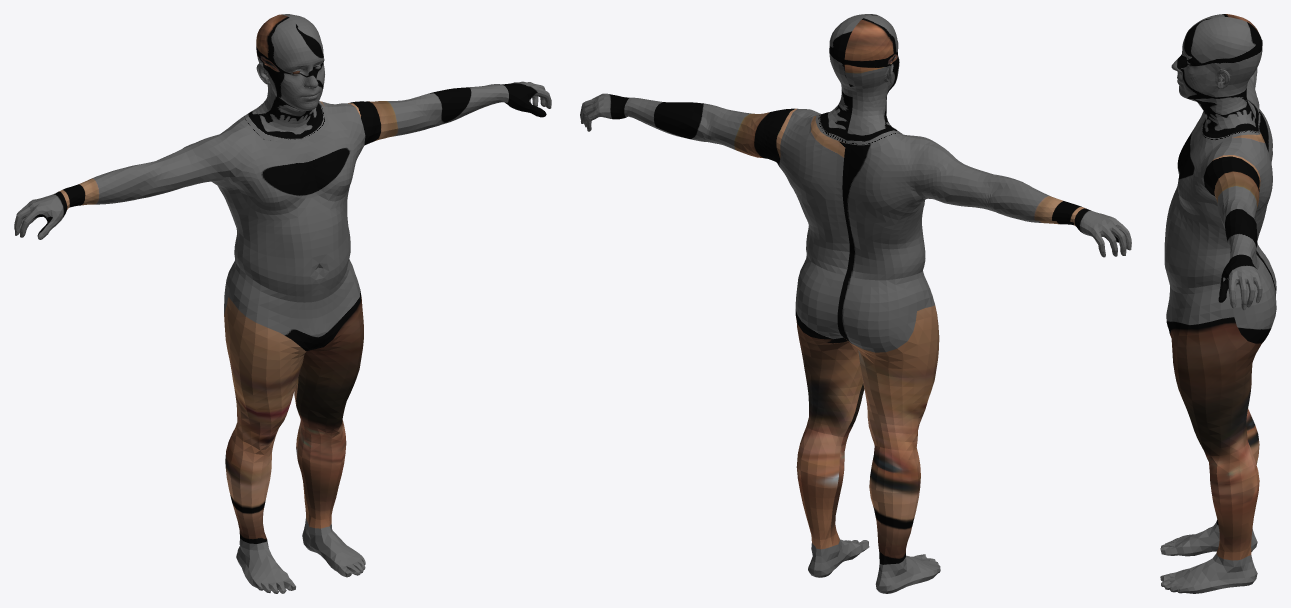
File: normal_model.obj
3 renders of one model, left to right at view 1: azimuth 30°, elevation 25°; view 2: azimuth 150°, elevation 25°; view 3: azimuth 270°, elevation 25°, orthographic. The views are drawn at different scales.
Size of the model in its own units: 1.58 by 1.55 by 0.2953.
1 material, 1 textured.
